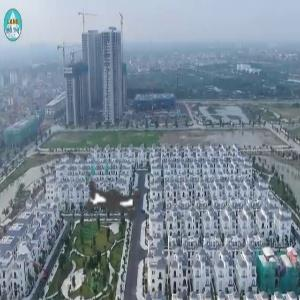drone: (46, 133, 188, 275)
